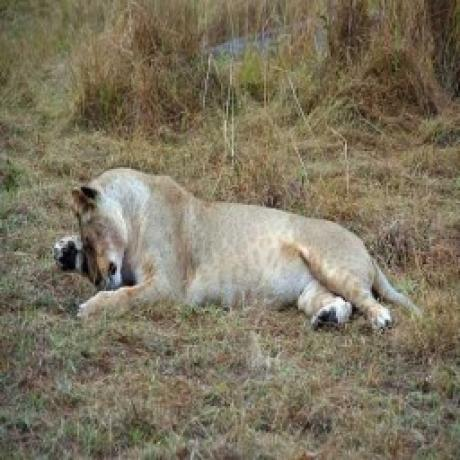Lion: (55, 162, 427, 333)
